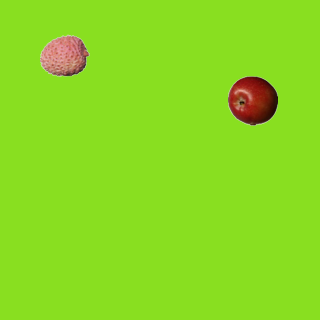Apple Braeburn: (227, 75, 277, 125)
Lychee: (39, 30, 89, 80)
